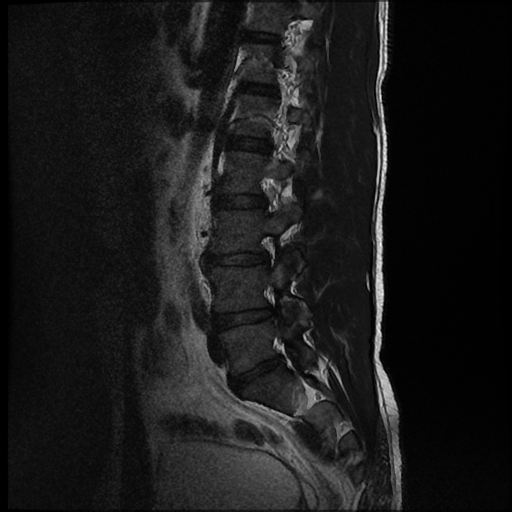LFS0: (248, 227, 287, 274)
